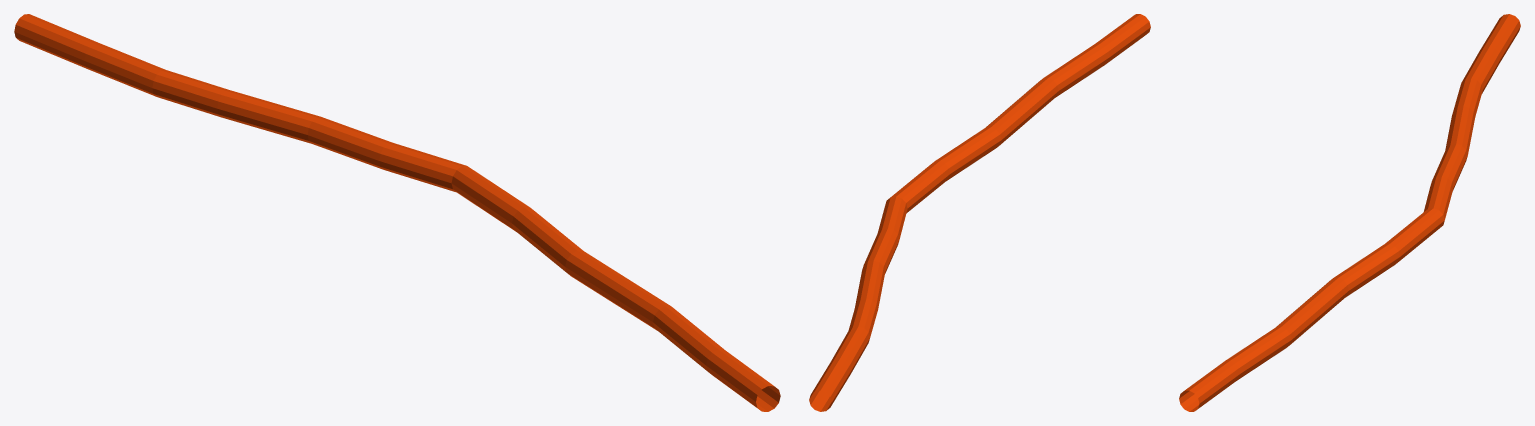
File: Cable6.fbx
The picture shows the model from 3 angles, left to right: view 1: azimuth 30°, elevation 25°; view 2: azimuth 150°, elevation 25°; view 3: azimuth 330°, elevation 25°; orthographic projection. The views are drawn at different scales.
Visible parts, largest first — view 1: Vert.005; view 2: Vert.005; view 3: Vert.005.
Boxes of the visible parts, x1=… form: Vert.005: x1=14, y1=14, x2=780, y2=411; Vert.005: x1=809, y1=14, x2=1150, y2=411; Vert.005: x1=1179, y1=14, x2=1520, y2=411.
Size of the model in its own units: 16.61 by 2 by 79.38.
